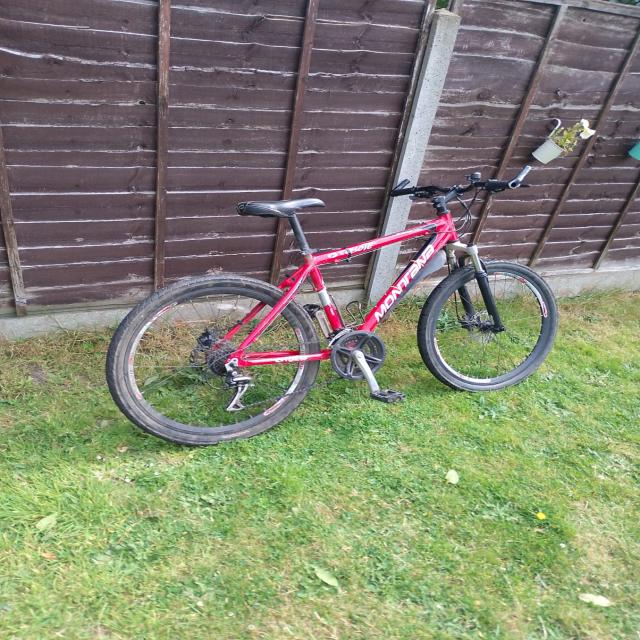bicycle: (103, 154, 587, 455)
